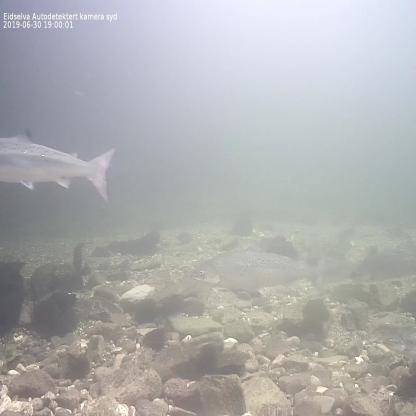salmon: (185, 236, 329, 303), (346, 242, 416, 289), (377, 316, 416, 357)
